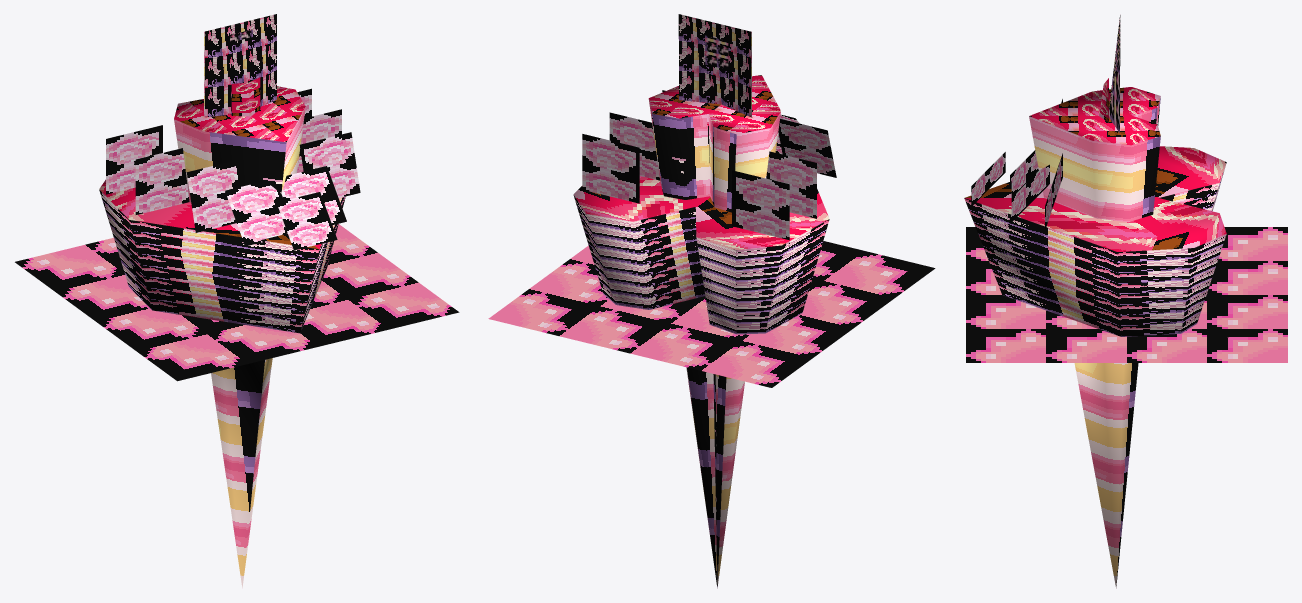
Rendered from 0052uc_m_cake_e.gltf.
3 views of the same model, side by side, from view 1: azimuth 30°, elevation 25°; view 2: azimuth 150°, elevation 25°; view 3: azimuth 270°, elevation 25° (orthographic).
Visible parts, largest first — view 1: 0052uc_m_cake_e; view 2: 0052uc_m_cake_e; view 3: 0052uc_m_cake_e.
Boxes of the visible parts, x1,y1,x2,y2 form: 0052uc_m_cake_e: (15,14,459,587); 0052uc_m_cake_e: (488,14,935,588); 0052uc_m_cake_e: (964,14,1287,588).
Bounding box in the file's own units: 0.6318 × 1.21 × 0.6355.
Materials: 4 (4 with a texture image).
